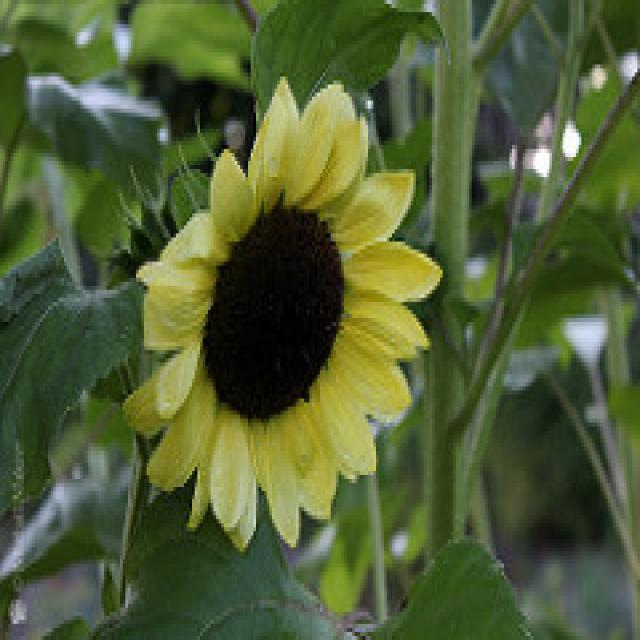sunflower: (136, 70, 443, 558)
